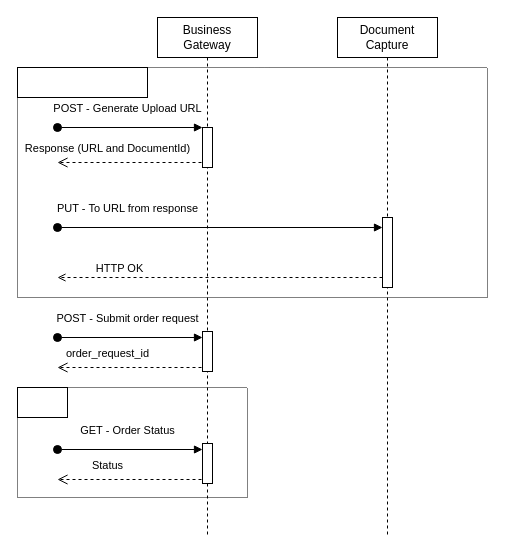
The diagram is 505 pixels wide and 555 high, and some of its shapes have lost their labels. Here are the shapes that lost their labels. From the top down, the box of each, then its label:
(16, 66, 148, 98): For each document
(16, 386, 68, 418): Loop
